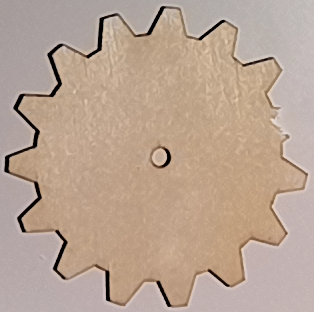Missing: (264, 101, 310, 142)
